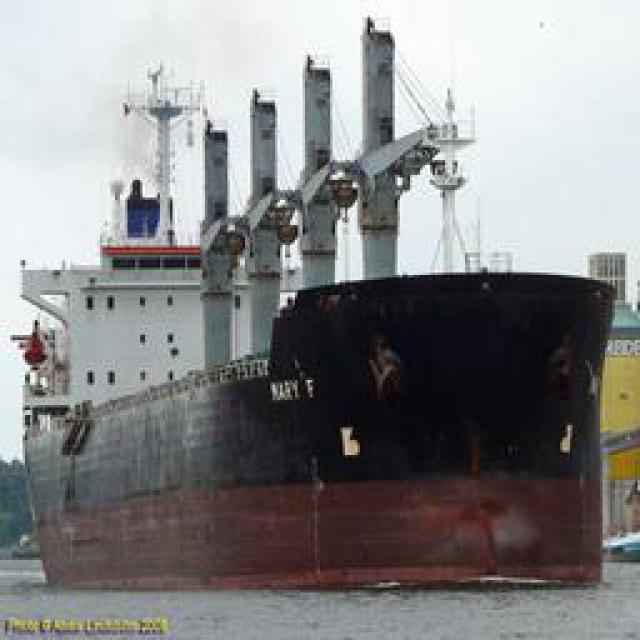Ship: (1, 16, 620, 597)
